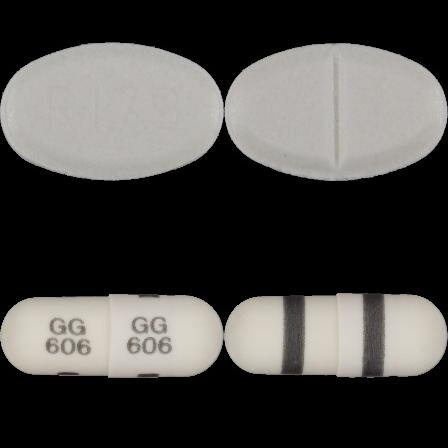45865-386: (0, 0, 224, 224)
